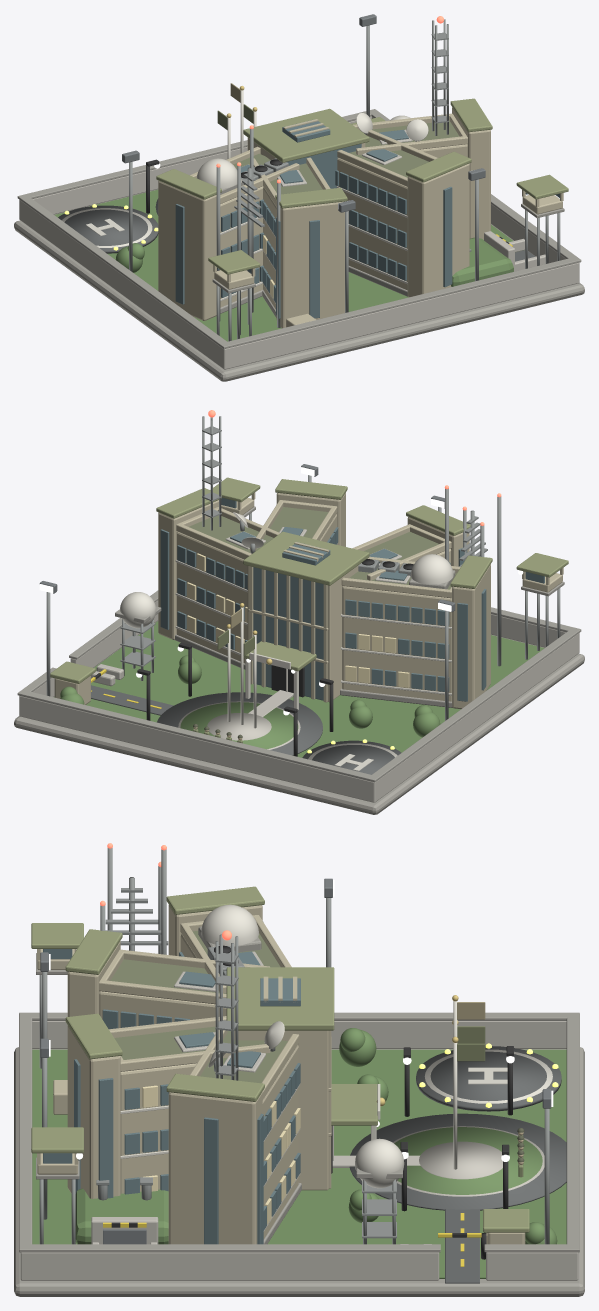
3 views of the same model, one above another, from view 1: azimuth 30°, elevation 25°; view 2: azimuth 150°, elevation 25°; view 3: azimuth 270°, elevation 25° (orthographic). The views are drawn at different scales.
Parts seen in each view (by area): view 1: Cube, Cube.310, Cube.275, Cube.212, Cube.145, Cube.001, Cube.312, Cube.155, Cube.293, Cube.308, Cube.311, Cube.313 (+31 smaller); view 2: Cube.001, Cube, Cube.308, Cube.088, Cube.281, Cube.312, Cube.019, Cube.293, Cube.145, Cube.309, Cylinder.001, Cube.313 (+38 smaller); view 3: Cube.001, Cube, Cube.316, Cube.076, Cylinder.001, Cube.312, Cube.292, Cube.293, Cube.212, Cylinder.003, Cube.155, Cube.317 (+48 smaller).
Part boxes in pixels (left/top/right/bottom): Cube: left=14, top=189, right=584, bottom=381; Cube.310: left=221, top=262, right=579, bottom=369; Cube.275: left=276, top=201, right=344, bottom=328; Cube.212: left=407, top=163, right=469, bottom=297; Cube.145: left=158, top=181, right=216, bottom=320; Cube.001: left=54, top=189, right=524, bottom=341; Cube.312: left=21, top=201, right=220, bottom=366; Cube.155: left=337, top=158, right=407, bottom=290; Cube.293: left=243, top=108, right=369, bottom=162; Cube.308: left=19, top=116, right=371, bottom=220; Cube.311: left=219, top=256, right=581, bottom=349; Cube.313: left=19, top=196, right=226, bottom=346; Cube.001: left=54, top=621, right=544, bottom=757; Cube: left=14, top=620, right=584, bottom=814; Cube.308: left=19, top=695, right=376, bottom=802; Cube.088: left=342, top=586, right=451, bottom=701; Cube.281: left=253, top=567, right=323, bottom=700; Cube.312: left=377, top=634, right=577, bottom=800; Cube.019: left=176, top=531, right=247, bottom=663; Cube.293: left=243, top=531, right=369, bottom=585; Cube.145: left=452, top=564, right=490, bottom=708; Cube.309: left=17, top=691, right=379, bottom=782; Cylinder.001: left=157, top=692, right=322, bottom=755; Cube.313: left=372, top=628, right=578, bottom=779; Cube.001: left=32, top=1049, right=566, bottom=1278; Cube: left=14, top=1047, right=584, bottom=1296; Cube.316: left=27, top=1252, right=439, bottom=1280; Cube.076: left=168, top=1092, right=262, bottom=1244; Cylinder.001: left=349, top=1113, right=566, bottom=1210; Cube.312: left=32, top=1021, right=566, bottom=1048; Cube.292: left=234, top=1030, right=328, bottom=1190; Cube.293: left=226, top=967, right=334, bottom=1030; Cube.212: left=67, top=1026, right=120, bottom=1198; Cylinder.003: left=394, top=1127, right=542, bottom=1194; Cube.155: left=120, top=1063, right=196, bottom=1193; Cube.317: left=25, top=1244, right=440, bottom=1252.
Bounding box in the file's own units: 3.92 × 2.45 × 3.92.
